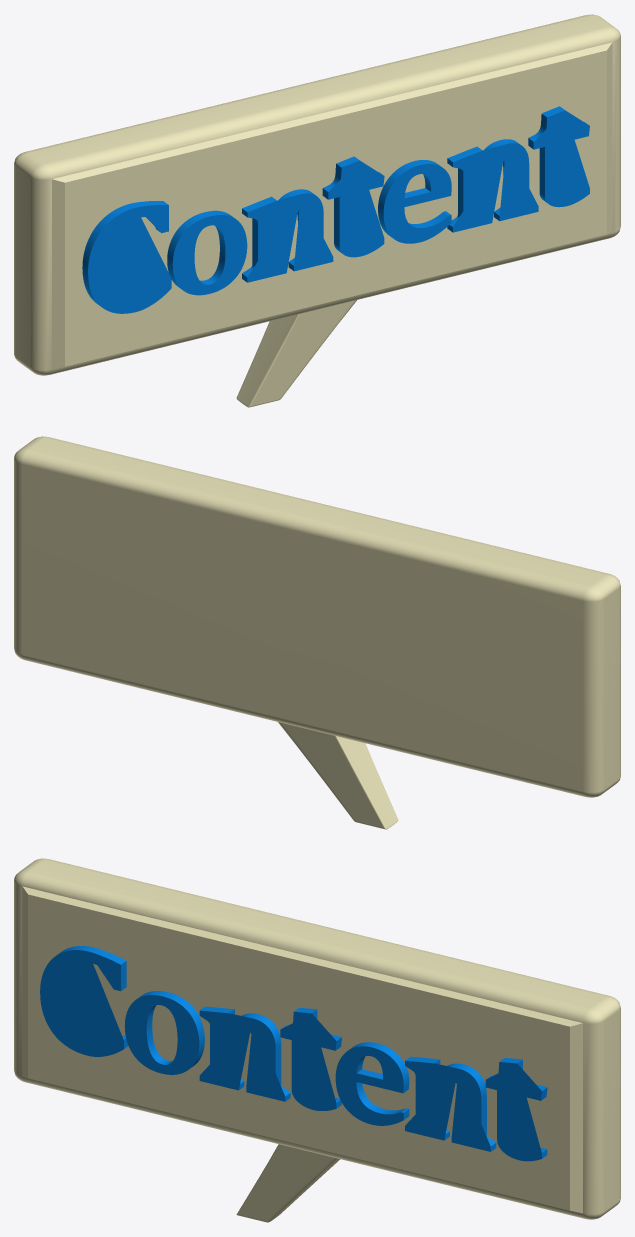
Rendered from Topic-content.fbx.
3 views of the same model, one above another, from view 1: azimuth 30°, elevation 25°; view 2: azimuth 150°, elevation 25°; view 3: azimuth 330°, elevation 25° (orthographic).
Visible parts, largest first — view 1: typeMesh2; view 2: typeMesh2; view 3: typeMesh2.
Boxes of the visible parts, x1=… form: typeMesh2: x1=14, y1=14, x2=620, y2=407; typeMesh2: x1=14, y1=436, x2=620, y2=829; typeMesh2: x1=14, y1=858, x2=620, y2=1222.
Size of the model in its own units: 10.7 by 5.13 by 1.22.
